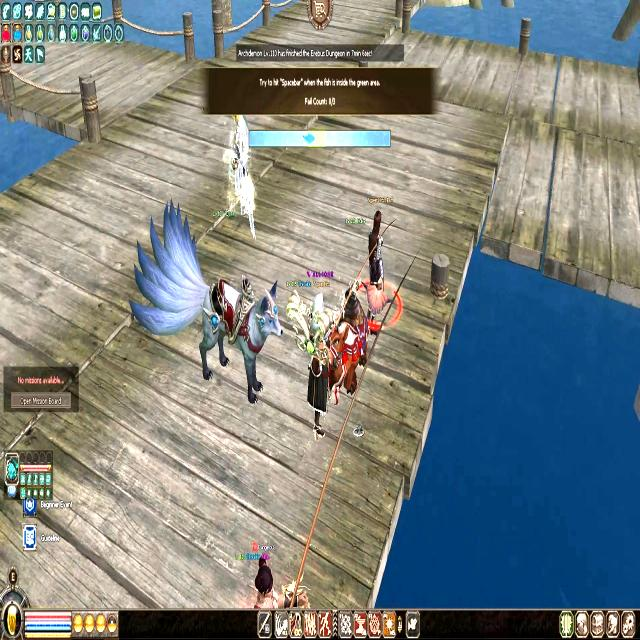fishes: (304, 132, 314, 146)
